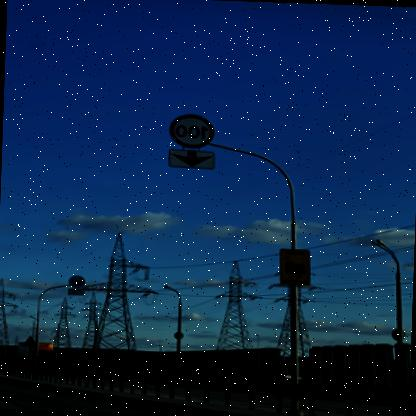speedlimit: (170, 113, 217, 148)
